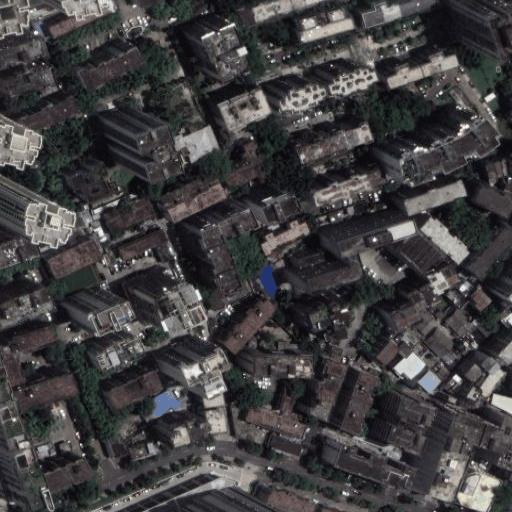building: (381, 106, 480, 174), (415, 409, 468, 499), (15, 397, 79, 463), (322, 439, 403, 487), (0, 211, 74, 260), (308, 156, 384, 201), (288, 113, 364, 157), (456, 412, 512, 471), (370, 391, 424, 451), (179, 20, 231, 81), (162, 174, 224, 223), (219, 297, 273, 352), (323, 206, 401, 243), (100, 109, 150, 166), (182, 223, 222, 294), (50, 0, 119, 40), (395, 226, 451, 274), (156, 75, 203, 132), (0, 416, 30, 505), (289, 239, 351, 282), (131, 273, 184, 323), (207, 84, 263, 131), (441, 455, 488, 511), (73, 44, 134, 87), (305, 359, 347, 420), (420, 217, 471, 266), (16, 90, 78, 130), (45, 238, 102, 281), (156, 338, 206, 387), (336, 371, 376, 432), (11, 367, 73, 406), (469, 224, 512, 280), (173, 477, 240, 510), (108, 371, 162, 411), (404, 181, 465, 216), (223, 139, 268, 186), (244, 406, 308, 439), (291, 10, 349, 45), (37, 452, 88, 490), (443, 0, 485, 45), (63, 284, 112, 322), (293, 294, 338, 335), (119, 230, 173, 262), (175, 125, 220, 163), (104, 199, 154, 233), (70, 162, 110, 204), (81, 334, 129, 368), (261, 220, 310, 252), (143, 388, 184, 422), (173, 490, 235, 512), (392, 352, 429, 388), (0, 60, 40, 93), (201, 388, 230, 432), (266, 75, 310, 104), (205, 201, 246, 232), (7, 322, 52, 350), (315, 59, 359, 87), (243, 350, 296, 373), (155, 412, 197, 441), (243, 184, 283, 214), (420, 326, 455, 360), (417, 263, 453, 296), (475, 187, 512, 219), (398, 282, 431, 315), (409, 340, 442, 372), (378, 55, 417, 82), (413, 44, 452, 70), (268, 490, 314, 512), (446, 308, 477, 340), (459, 350, 490, 381), (381, 301, 413, 331), (269, 429, 304, 456), (489, 262, 512, 303), (471, 361, 498, 389), (0, 34, 29, 59), (258, 267, 281, 298), (2, 356, 24, 387), (377, 340, 402, 365), (417, 369, 442, 394), (413, 312, 438, 337), (392, 331, 415, 357), (139, 497, 178, 512), (291, 248, 322, 266), (469, 289, 492, 313), (446, 288, 470, 311), (493, 332, 512, 361), (487, 161, 509, 184), (131, 441, 156, 460), (402, 324, 424, 345), (444, 374, 465, 395), (431, 362, 452, 383), (489, 393, 512, 412), (108, 434, 127, 456), (279, 389, 295, 413), (458, 336, 478, 355), (458, 279, 477, 299), (459, 379, 478, 398), (440, 351, 459, 370), (472, 318, 491, 337), (468, 327, 486, 345), (498, 308, 512, 328), (328, 346, 342, 358), (505, 158, 512, 174), (453, 105, 462, 113), (506, 180, 512, 192)
